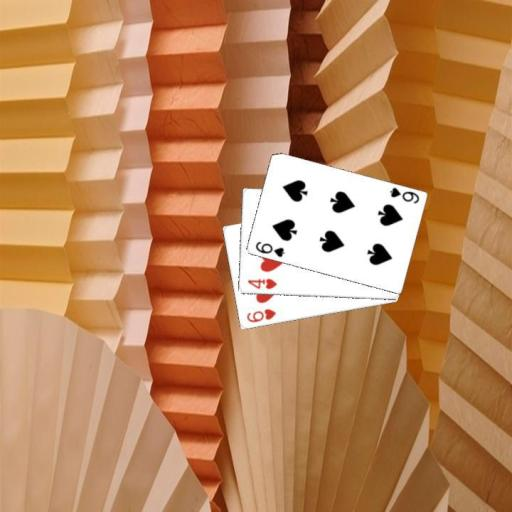4H: (245, 275, 278, 291)
6H: (244, 306, 278, 324)
6S: (252, 238, 286, 259), (386, 184, 420, 205)
